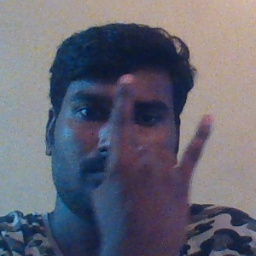V: (80, 69, 220, 254)
